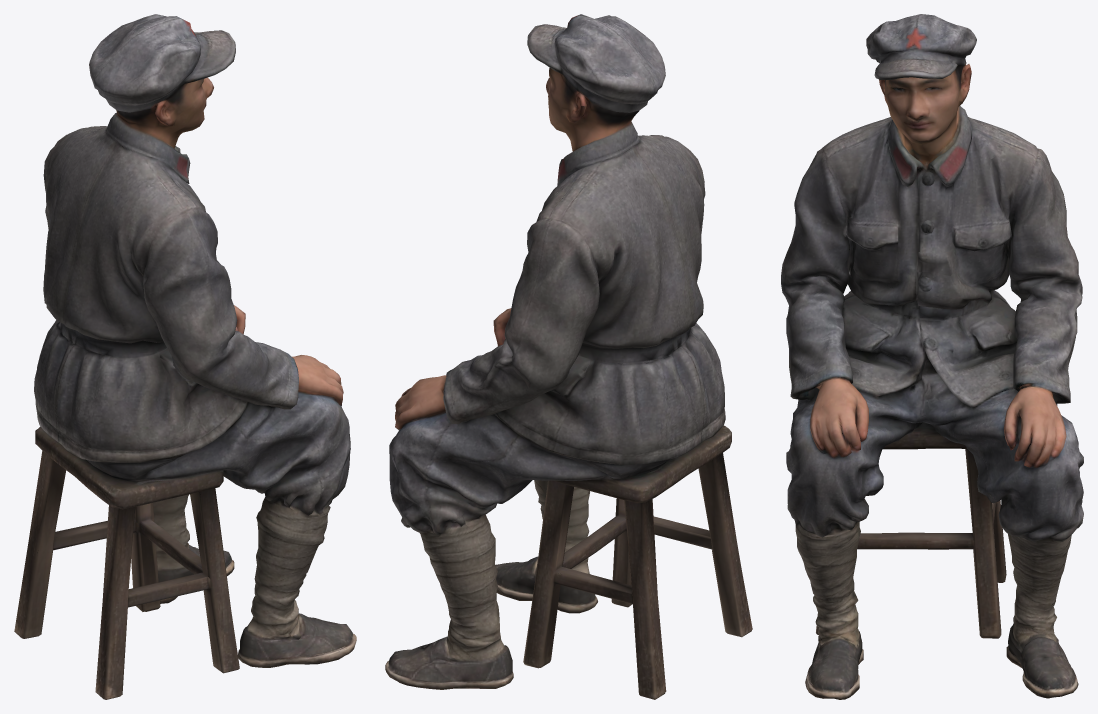
The model's file is seated-delegate.glb.
The picture shows the model from 3 angles, left to right: view 1: azimuth 30°, elevation 25°; view 2: azimuth 150°, elevation 25°; view 3: azimuth 270°, elevation 25°; orthographic projection. The views are drawn at different scales.
Visible parts, largest first — view 1: Supplied seated-delegate; view 2: Supplied seated-delegate; view 3: Supplied seated-delegate.
Part boxes in pixels (bbox=[...]): Supplied seated-delegate: bbox=[14, 14, 356, 699]; Supplied seated-delegate: bbox=[385, 14, 752, 699]; Supplied seated-delegate: bbox=[781, 14, 1083, 699].
Size of the model in its own units: 0.9648 by 2.25 by 1.
1 material, 1 textured.
